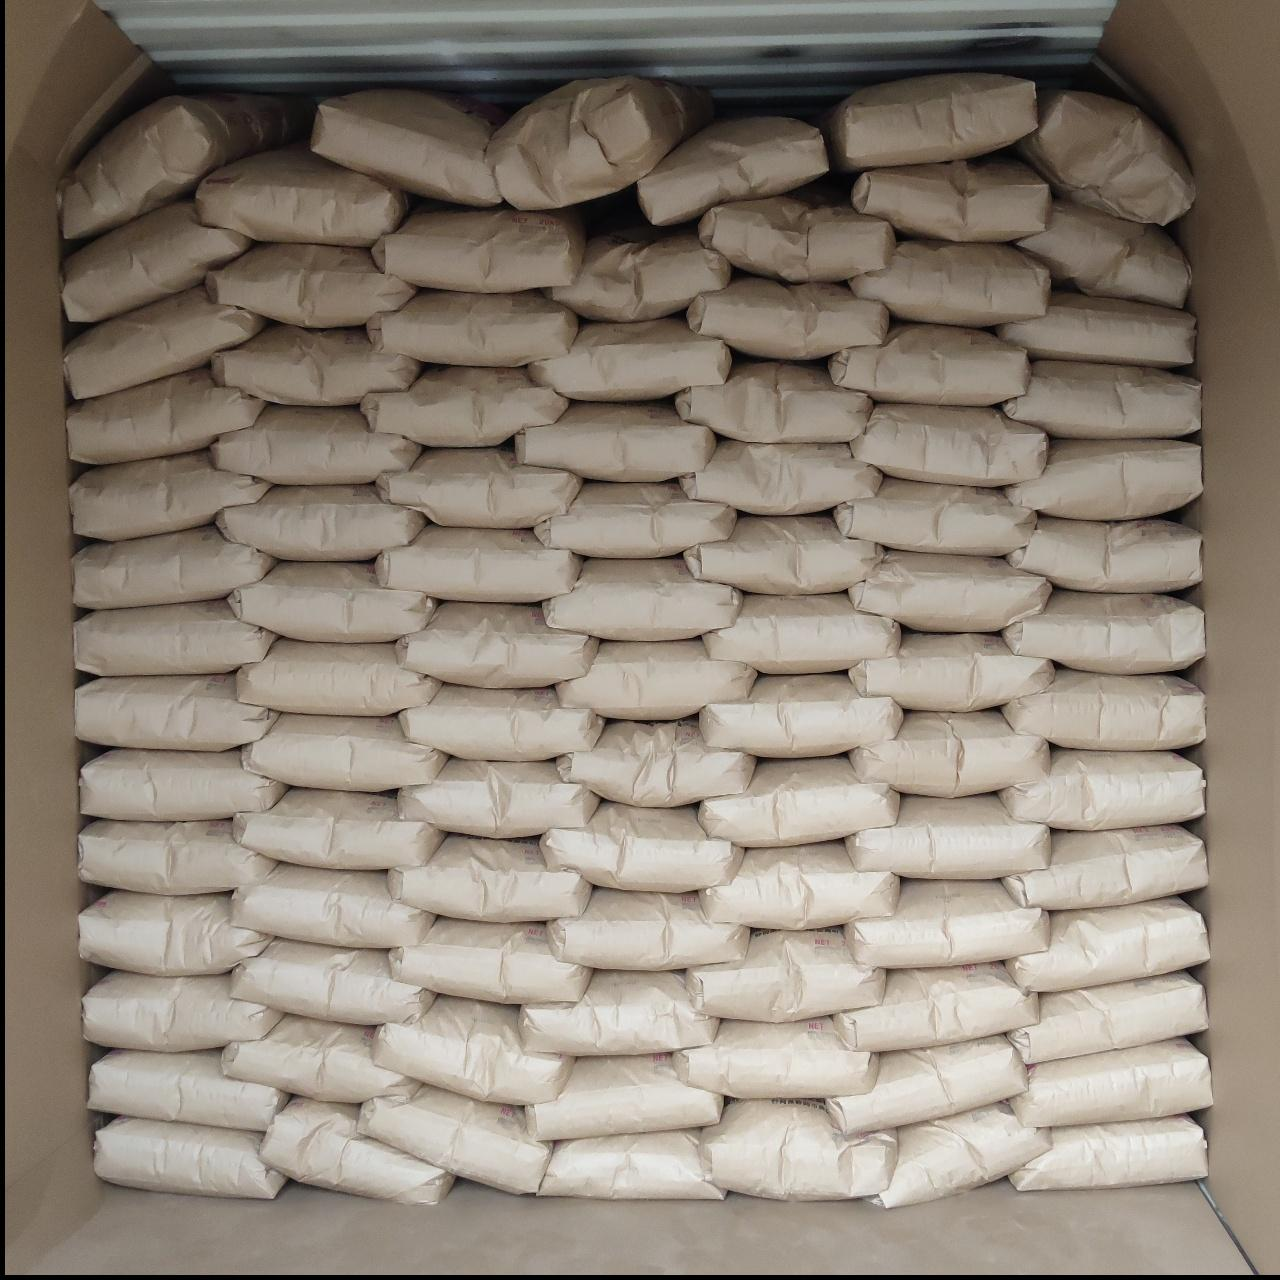sack: (60, 96, 309, 238), (488, 74, 710, 206), (1014, 90, 1194, 222), (64, 286, 263, 399), (64, 200, 250, 318), (312, 90, 501, 204), (196, 144, 408, 244), (376, 996, 572, 1102), (822, 74, 1036, 168), (638, 116, 826, 222), (701, 1099, 898, 1199), (264, 1098, 454, 1201), (362, 1088, 550, 1190), (828, 1036, 1026, 1132), (1008, 898, 1206, 990), (68, 368, 263, 462), (1016, 200, 1190, 304), (686, 930, 884, 1020), (835, 964, 1039, 1050), (1010, 972, 1206, 1062), (869, 1107, 1046, 1206), (700, 188, 894, 278), (700, 758, 898, 846), (1012, 1040, 1212, 1126), (72, 450, 268, 538), (392, 918, 590, 1005), (846, 880, 1046, 966), (850, 240, 1048, 326), (207, 244, 414, 326), (232, 864, 433, 948), (234, 788, 442, 869), (560, 720, 754, 806), (542, 802, 740, 886), (374, 206, 583, 286), (1002, 748, 1204, 830), (702, 842, 898, 926), (550, 226, 730, 318), (215, 324, 418, 404), (700, 674, 900, 756), (1006, 826, 1206, 908), (399, 602, 595, 686), (846, 796, 1046, 878), (390, 836, 590, 918), (852, 712, 1046, 796), (675, 1017, 877, 1098), (224, 1016, 420, 1099), (362, 366, 566, 445), (688, 275, 886, 358), (852, 156, 1050, 238), (520, 972, 719, 1054), (234, 940, 433, 1022), (530, 318, 730, 399), (1005, 590, 1204, 670), (526, 1056, 722, 1138), (830, 324, 1028, 404), (377, 448, 580, 526), (74, 526, 272, 606), (847, 552, 1050, 629), (215, 406, 420, 482), (544, 558, 740, 638), (1002, 670, 1204, 748), (80, 892, 270, 974), (368, 290, 576, 365), (230, 561, 434, 638), (241, 714, 445, 790), (852, 404, 1046, 484), (558, 640, 754, 719), (90, 1051, 286, 1130), (850, 634, 1051, 710), (1006, 440, 1200, 518), (676, 360, 870, 438), (549, 890, 748, 966), (516, 402, 714, 478), (400, 760, 598, 836), (836, 478, 1034, 554), (376, 526, 580, 600), (236, 640, 438, 714), (400, 685, 602, 758), (96, 1118, 284, 1198), (76, 674, 278, 748), (80, 748, 284, 821), (704, 594, 898, 670), (1005, 360, 1198, 436), (76, 600, 275, 674), (685, 515, 880, 590), (536, 482, 734, 556), (996, 292, 1194, 366), (218, 486, 422, 558), (84, 972, 278, 1046), (80, 821, 272, 894), (1012, 1116, 1206, 1189), (682, 440, 878, 510), (1008, 518, 1200, 590), (538, 1132, 724, 1198)
